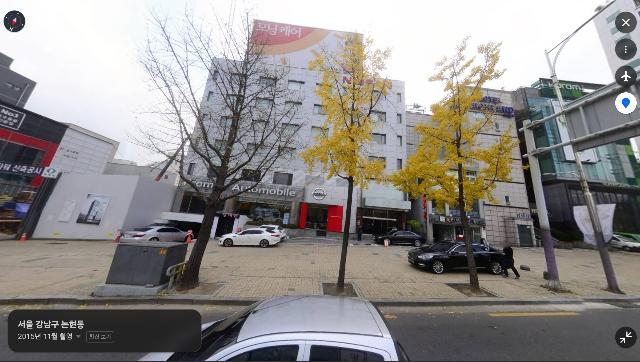ginkgo: (383, 34, 530, 294), (297, 30, 404, 294)
other: (112, 0, 295, 290)
